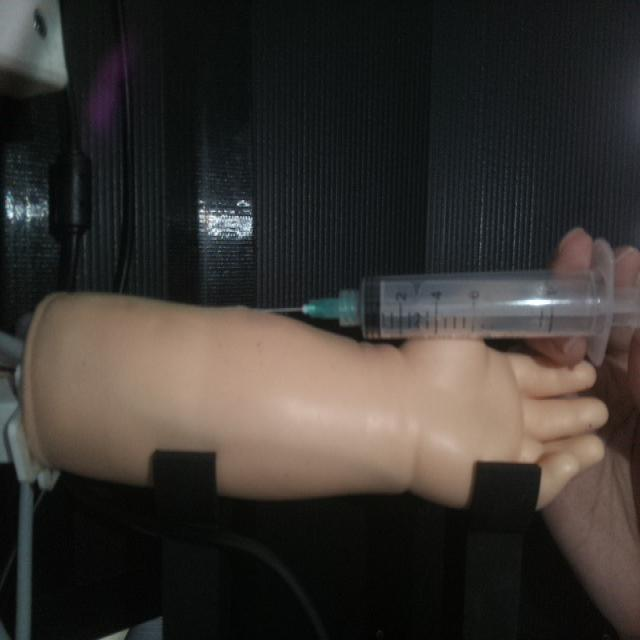Outside: (252, 229, 639, 318)
